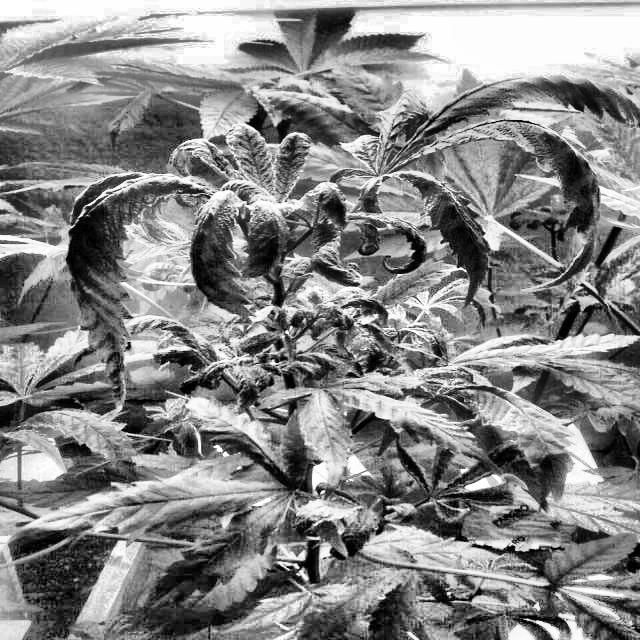plants: (52, 125, 502, 414)
